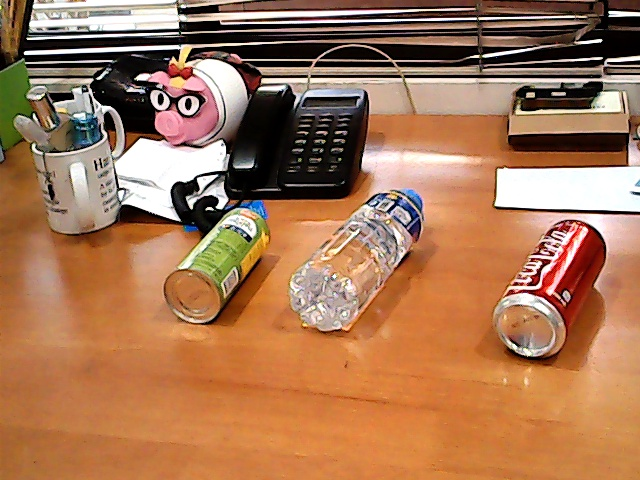Cola: (483, 199, 617, 378)
Pine Juice: (157, 184, 277, 339)
Summit Water: (277, 164, 436, 348)
